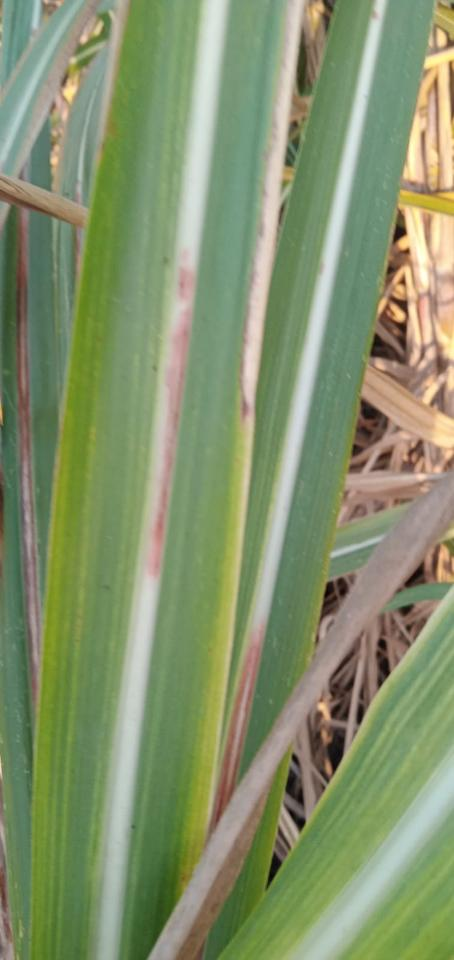RedRot: (148, 246, 198, 582), (207, 620, 267, 843), (16, 207, 41, 700)
